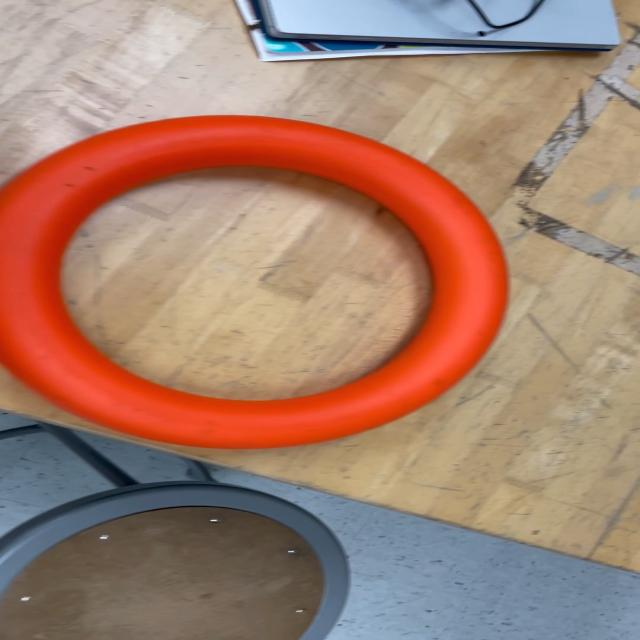note: (2, 116, 512, 446)
